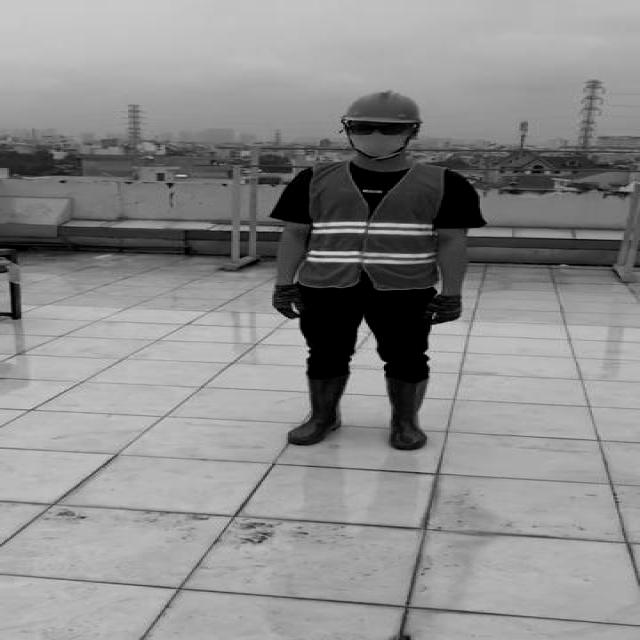boots: (286, 371, 354, 446), (383, 378, 435, 453)
face_mask: (346, 118, 413, 156)
glasses: (340, 120, 412, 140)
hand_glove: (421, 294, 471, 326), (270, 283, 299, 319)
head_helmet: (340, 88, 428, 127)
person: (259, 88, 489, 460)
vest: (292, 164, 448, 288)
